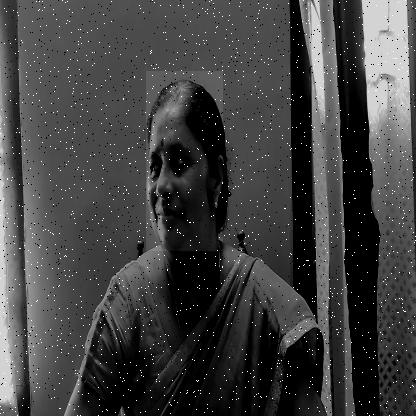Distracted: (146, 71, 223, 251)
